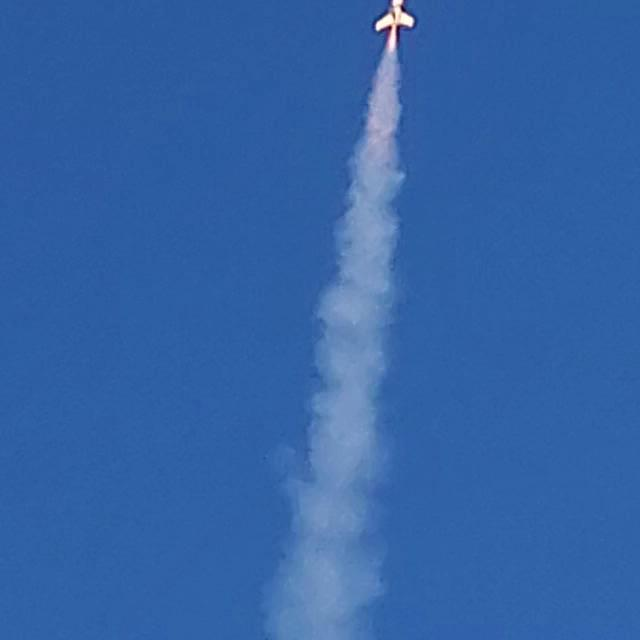rocket: (374, 0, 416, 54)
